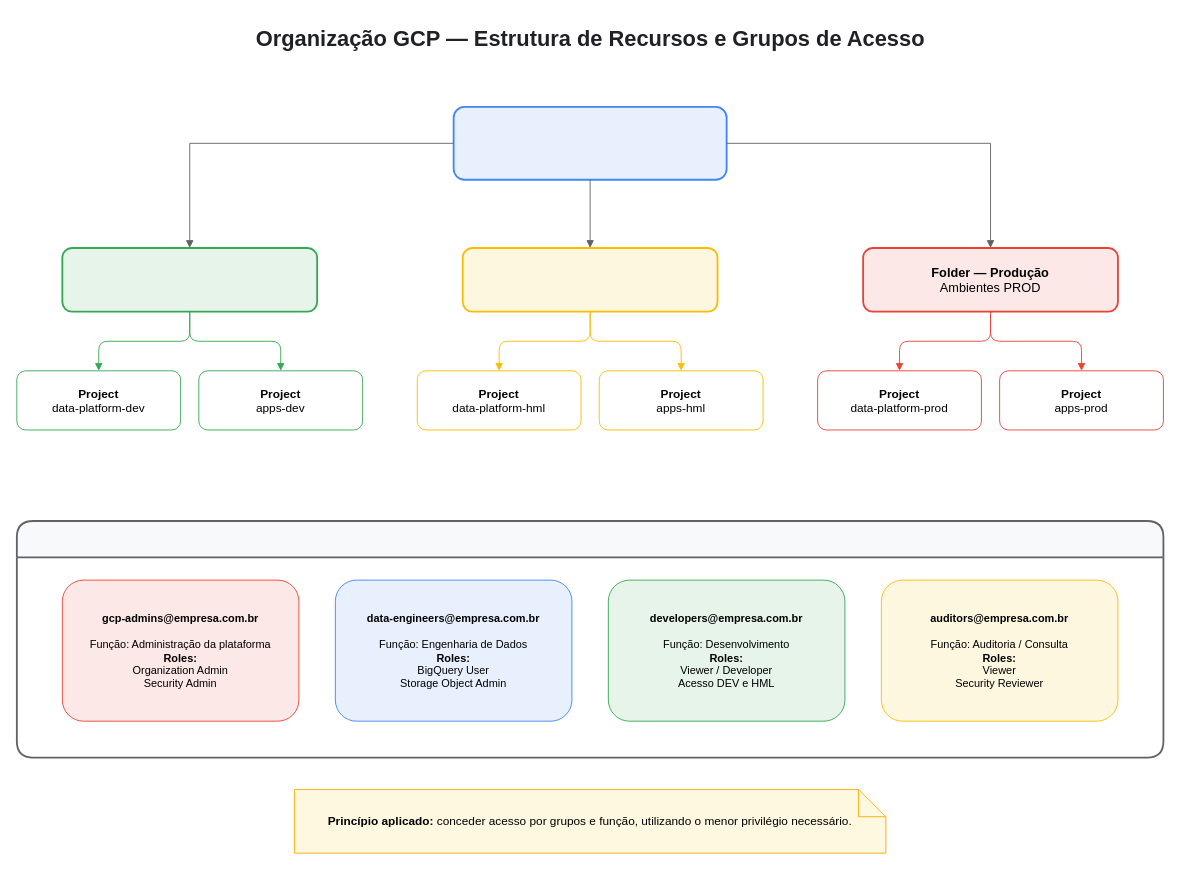
The diagram is 1179 pixels wide and 869 high, and some of its shapes have lost their labels. Each missing label, with the box of its shape:
Cloud Identity / IAM — Grupos de Acesso: (15, 520, 1164, 758)
Folder — Desenvolvimento Ambientes DEV: (61, 247, 318, 312)
Folder — Homologação Ambientes HML: (461, 247, 718, 312)
GCP Organization empresa.com.br: (452, 106, 727, 180)
